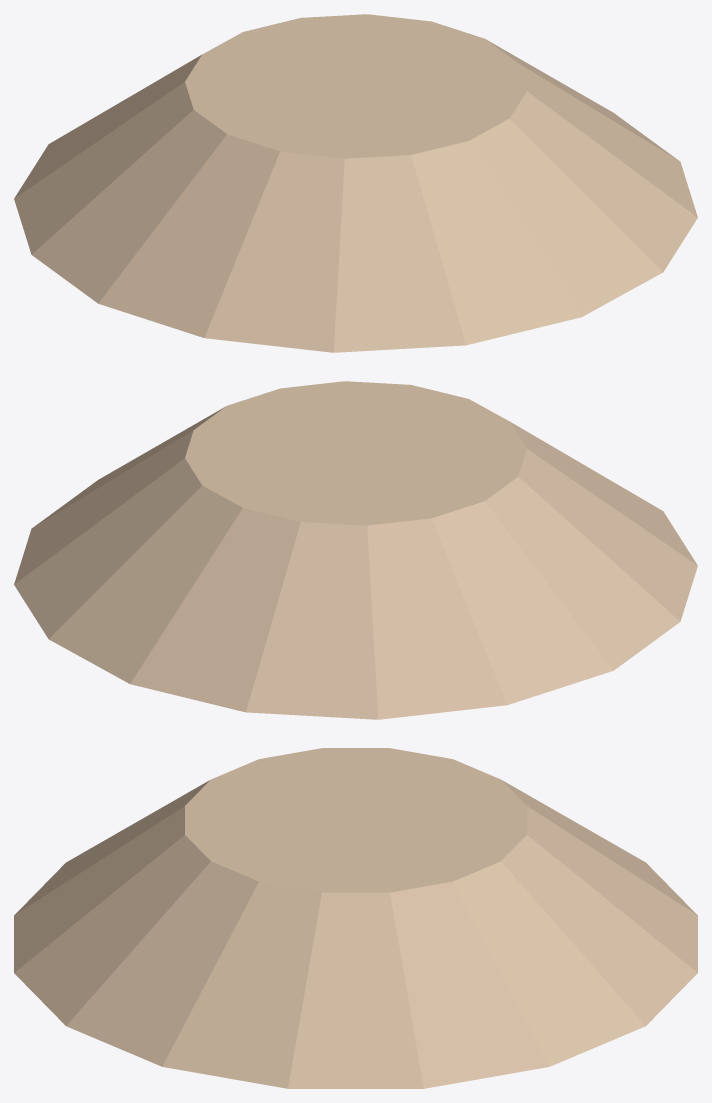
File: 1to0collider.obj
The picture shows the model from 3 angles, top to bottom: view 1: azimuth 30°, elevation 25°; view 2: azimuth 150°, elevation 25°; view 3: azimuth 270°, elevation 25°; orthographic projection.
Parts seen in each view (by area): view 1: collider; view 2: collider; view 3: collider.
Part boxes in pixels (x1=…): collider: x1=14, y1=14, x2=697, y2=352; collider: x1=14, y1=381, x2=697, y2=719; collider: x1=14, y1=748, x2=697, y2=1088.
Size of the model in its own units: 1.25 by 0.25 by 1.25.
